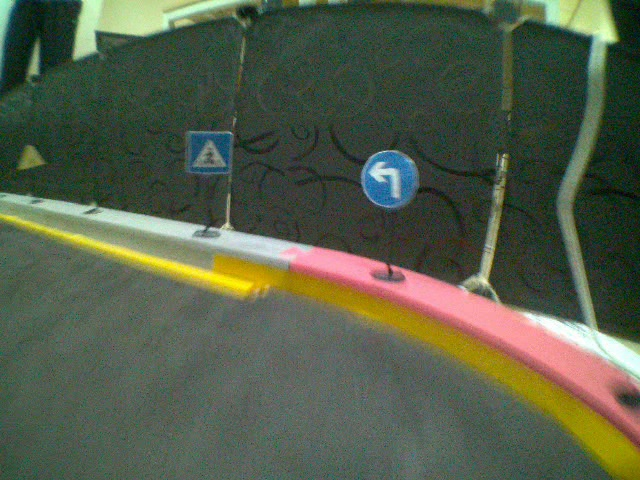crossing: (187, 131, 231, 174)
turn: (361, 148, 421, 210)
